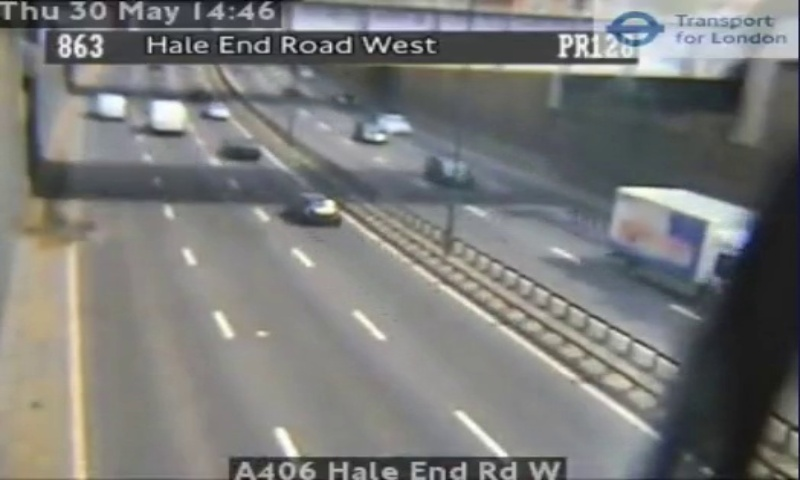car: (288, 192, 340, 224), (148, 100, 187, 131)
